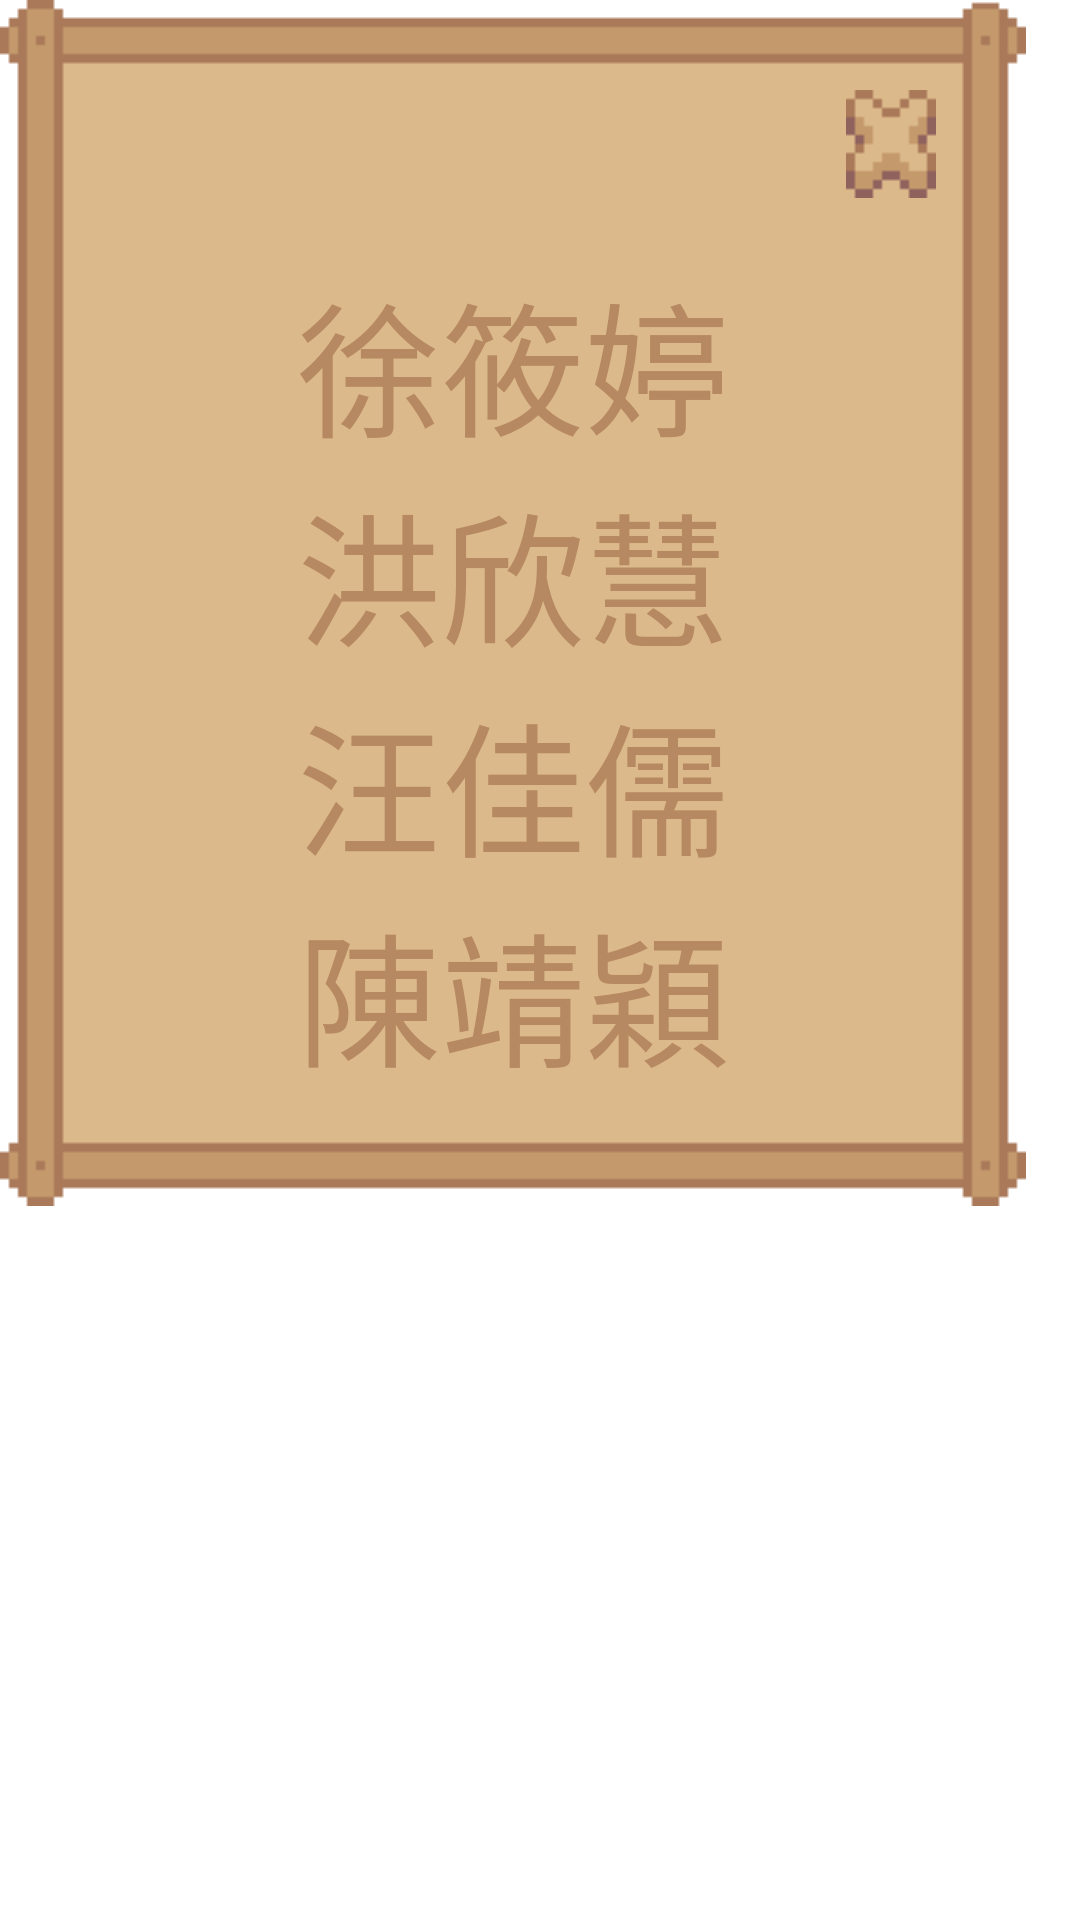

Screen size 1080*1920. Icon name, then its box in pixels as (x1, y1, x2, y2):
food close: (846, 90, 936, 198)
